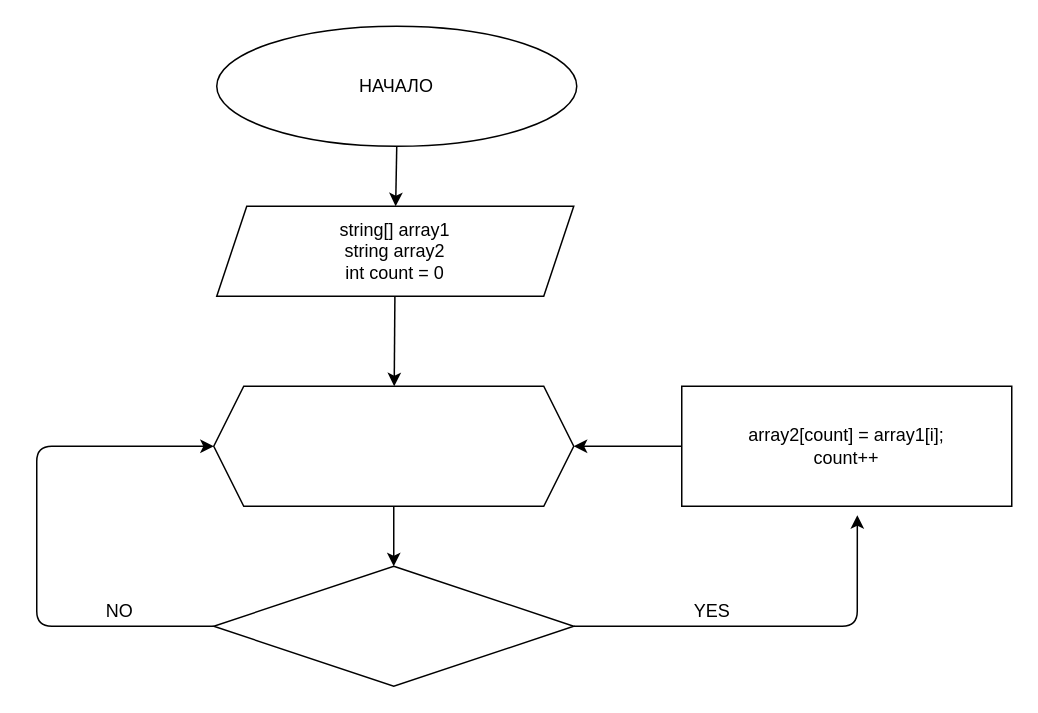
Some shapes in this 1038 by 713 pixel diagram are drawn without their labels. The box of each missing label's shape, as (x1, y1, x2, y2) in pixels:
for(int i = 0; i < array1.length; i++): (212, 385, 574, 506)
if(array1.length <= 3): (212, 565, 574, 686)
